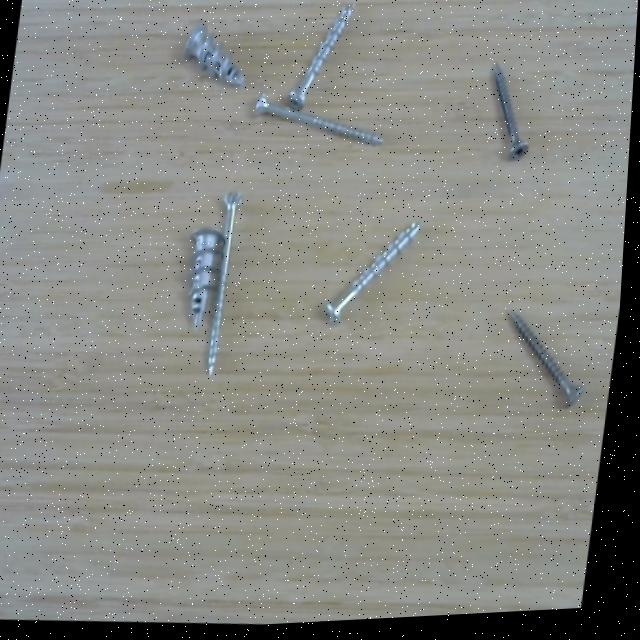Black screw: (507, 304, 598, 424), (488, 61, 534, 173)
Long screw: (249, 87, 392, 153), (206, 190, 253, 384)
Medium screw: (321, 216, 430, 340), (282, 0, 363, 120)
Short screw: (175, 17, 253, 97), (189, 226, 230, 337)
